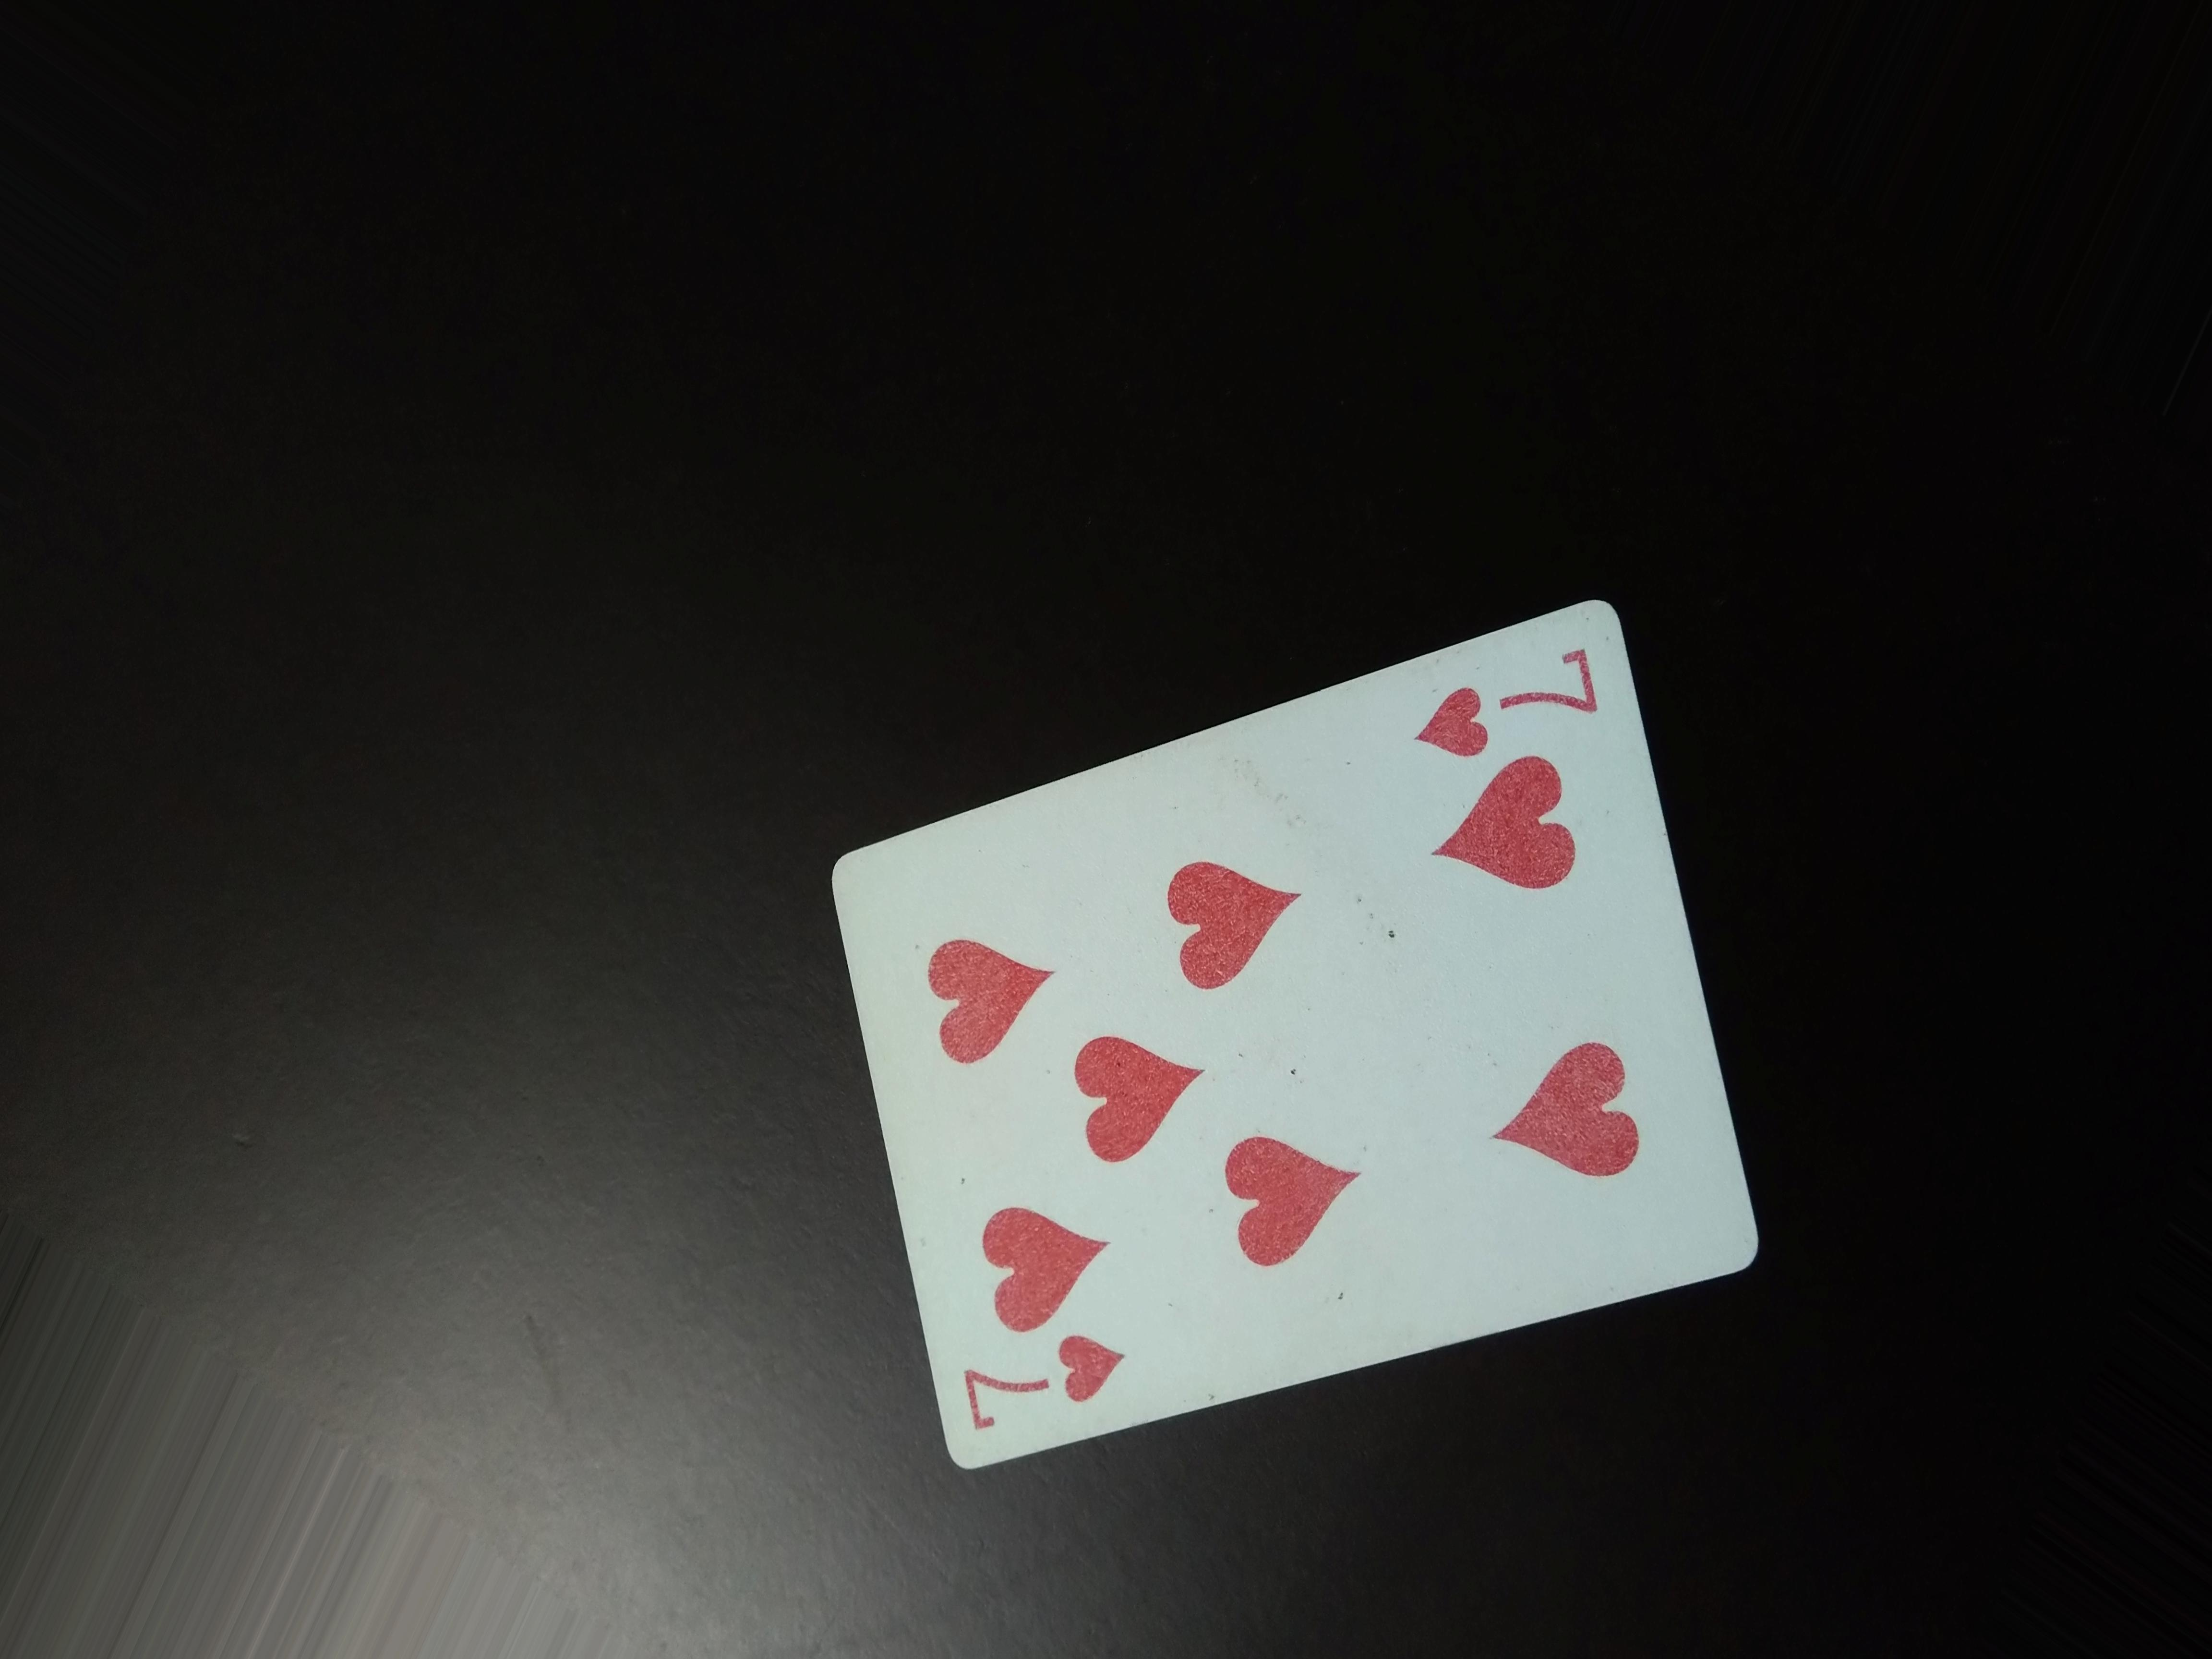7H: (1409, 608, 1637, 760)
